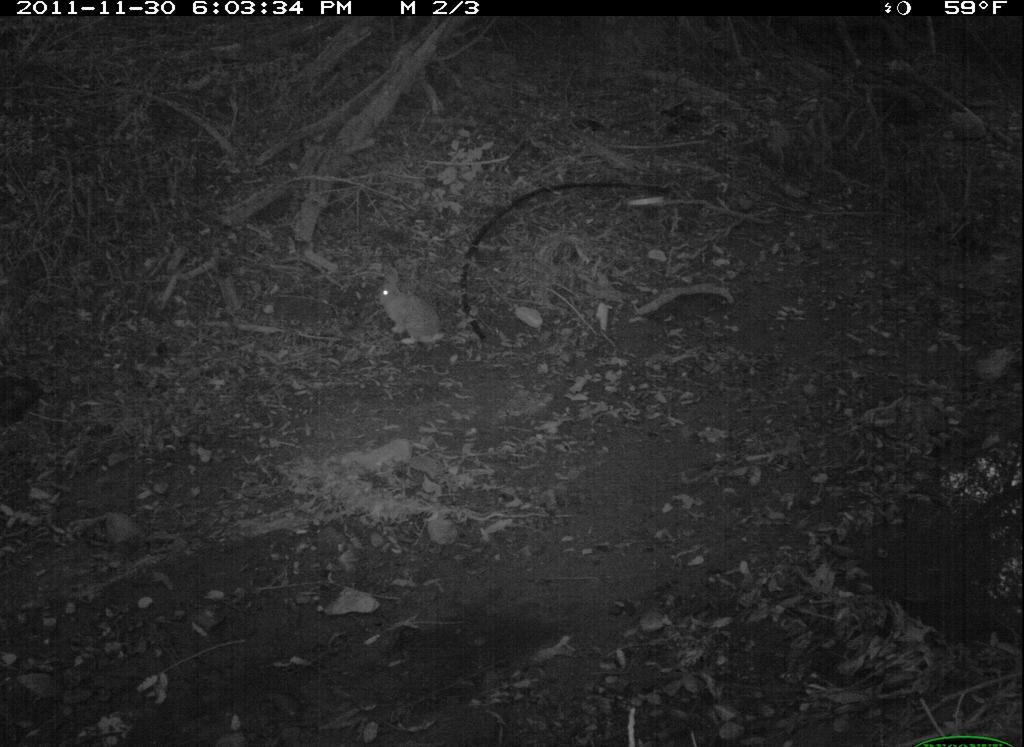rabbit: (370, 268, 455, 354)
